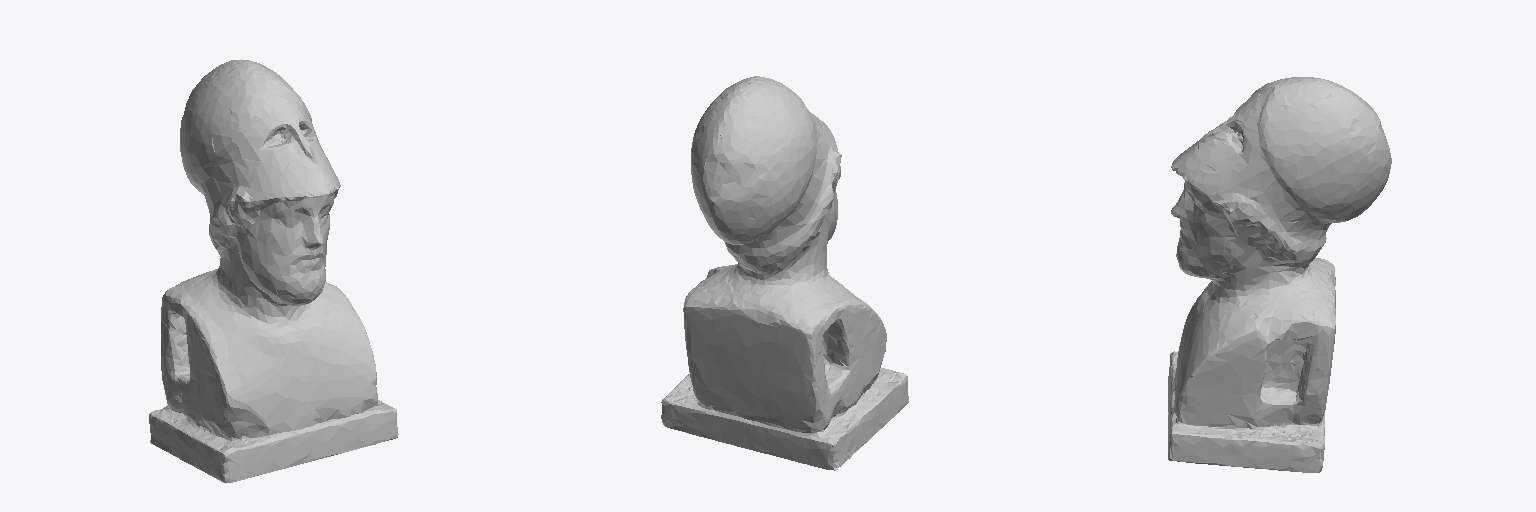
Rendered from pericles.obj.
3 views of the same model, side by side, from view 1: azimuth 30°, elevation 25°; view 2: azimuth 150°, elevation 25°; view 3: azimuth 270°, elevation 25° (orthographic).
Parts seen in each view (by area): view 1: Default; view 2: Default; view 3: Default.
Part boxes in pixels (bbox=[...]): Default: bbox=[149, 59, 398, 482]; Default: bbox=[661, 76, 908, 470]; Default: bbox=[1168, 77, 1391, 472].
Size of the model in its own units: 12.55 by 24.5 by 13.89.